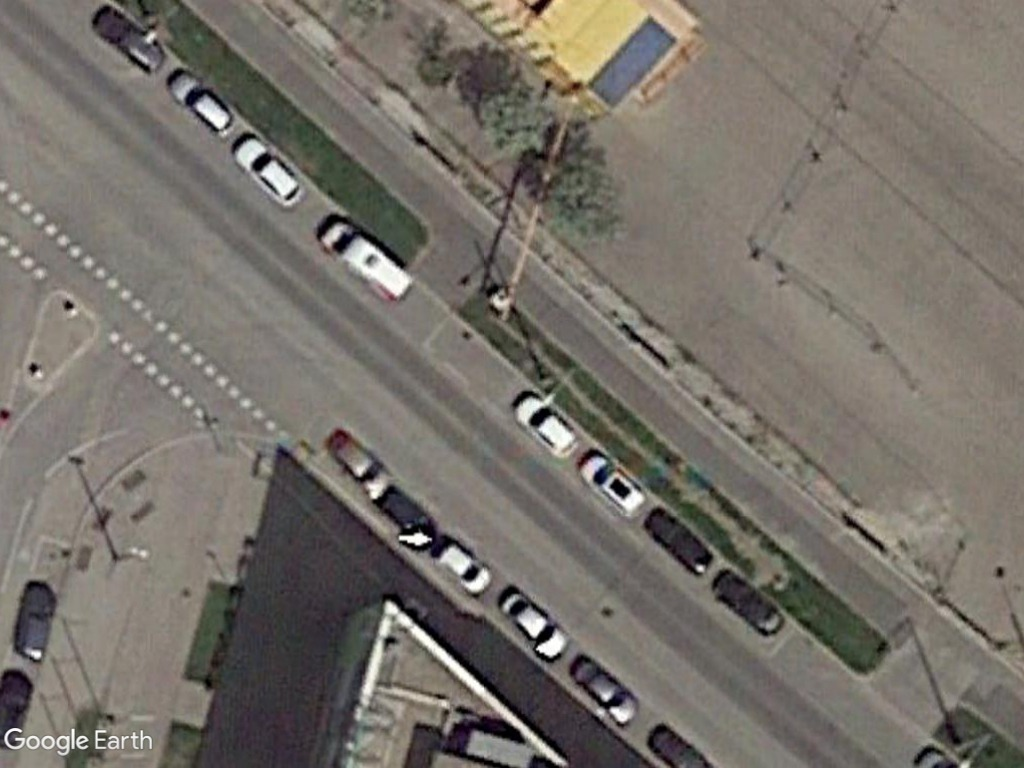car: (567, 650, 645, 731), (319, 426, 396, 507), (507, 389, 584, 466), (162, 65, 237, 143), (574, 447, 654, 518), (232, 136, 306, 211), (498, 588, 571, 663), (429, 537, 496, 601)
van: (319, 215, 416, 308)
